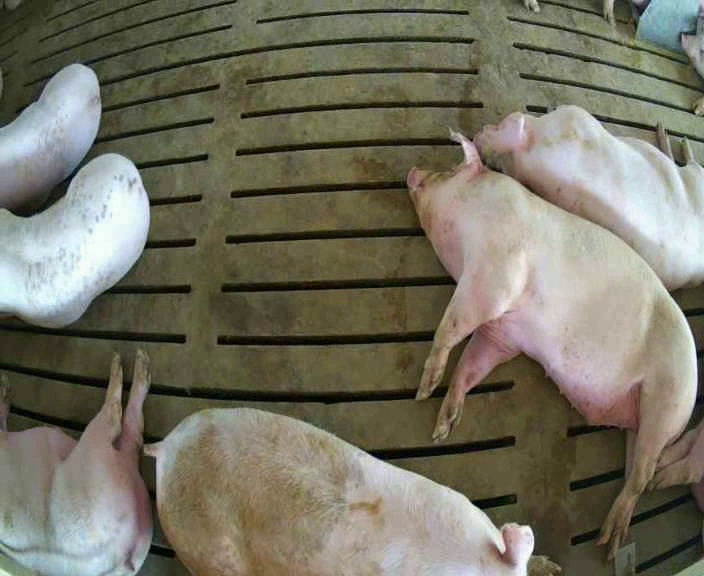pig: (407, 134, 696, 556), (146, 408, 558, 573), (475, 105, 703, 288), (0, 350, 151, 574), (0, 154, 149, 326), (0, 64, 100, 208)
